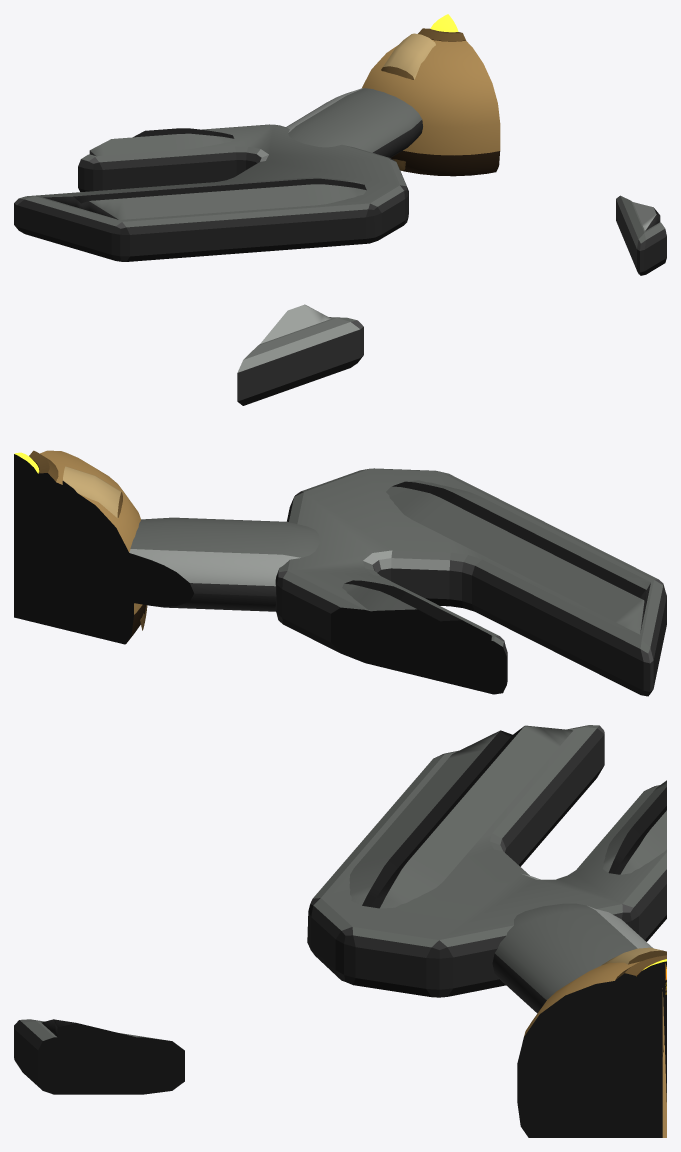
Rendered from spin_claw_43.glb.
3 renders of one model, top to bottom at view 1: azimuth 30°, elevation 25°; view 2: azimuth 150°, elevation 25°; view 3: azimuth 270°, elevation 25°, orthographic. The views are drawn at different scales.
Parts seen in each view (by area): view 1: spin_claw_43_arm3_plate, spin_claw_43_hub_dome, spin_claw_43_arm3_ridge0, spin_claw_43_arm3_rod, spin_claw_43_arm3_ridge1, spin_claw_43_arm2_plate, spin_claw_43_hub_rib3, spin_claw_43_arm2_ridge1, spin_claw_43_hub_bezel; view 2: spin_claw_43_arm3_plate, spin_claw_43_hub_dome, spin_claw_43_arm3_rod, spin_claw_43_arm3_ridge0, spin_claw_43_arm2_plate, spin_claw_43_arm3_ridge1, spin_claw_43_hub_rib3, spin_claw_43_arm2_ridge1, spin_claw_43_hub_bezel, spin_claw_43_hub_lens; view 3: spin_claw_43_arm3_plate, spin_claw_43_hub_dome, spin_claw_43_arm3_ridge0, spin_claw_43_arm3_rod, spin_claw_43_arm2_plate, spin_claw_43_arm3_ridge1, spin_claw_43_arm2_ridge1, spin_claw_43_hub_lens, spin_claw_43_hub_bezel.
Part boxes in pixels (x1=…): spin_claw_43_arm3_plate: x1=14, y1=124, x2=408, y2=261; spin_claw_43_hub_dome: x1=362, y1=40, x2=500, y2=176; spin_claw_43_arm3_ridge0: x1=43, y1=177, x2=366, y2=219; spin_claw_43_arm3_rod: x1=286, y1=88, x2=422, y2=157; spin_claw_43_arm3_ridge1: x1=89, y1=128, x2=234, y2=156; spin_claw_43_arm2_plate: x1=616, y1=195, x2=666, y2=275; spin_claw_43_hub_rib3: x1=381, y1=33, x2=435, y2=170; spin_claw_43_arm2_ridge1: x1=633, y1=202, x2=660, y2=230; spin_claw_43_hub_bezel: x1=418, y1=28, x2=465, y2=41; spin_claw_43_arm3_plate: x1=275, y1=468, x2=666, y2=696; spin_claw_43_hub_dome: x1=14, y1=450, x2=145, y2=644; spin_claw_43_arm3_rod: x1=91, y1=517, x2=319, y2=611; spin_claw_43_arm3_ridge0: x1=386, y1=480, x2=650, y2=634; spin_claw_43_arm2_plate: x1=237, y1=317, x2=363, y2=405; spin_claw_43_arm3_ridge1: x1=342, y1=580, x2=492, y2=647; spin_claw_43_hub_rib3: x1=62, y1=466, x2=147, y2=630; spin_claw_43_arm2_ridge1: x1=260, y1=304, x2=331, y2=343; spin_claw_43_hub_bezel: x1=14, y1=450, x2=58, y2=491; spin_claw_43_hub_lens: x1=14, y1=452, x2=39, y2=490; spin_claw_43_arm3_plate: x1=307, y1=725, x2=666, y2=997; spin_claw_43_hub_dome: x1=517, y1=961, x2=666, y2=1137; spin_claw_43_arm3_ridge0: x1=349, y1=725, x2=572, y2=908; spin_claw_43_arm3_rod: x1=492, y1=903, x2=652, y2=1013; spin_claw_43_arm2_plate: x1=14, y1=1019, x2=184, y2=1094; spin_claw_43_arm3_ridge1: x1=603, y1=780, x2=666, y2=874; spin_claw_43_arm2_ridge1: x1=41, y1=1019, x2=150, y2=1047; spin_claw_43_hub_lens: x1=634, y1=959, x2=666, y2=994; spin_claw_43_hub_bezel: x1=615, y1=955, x2=666, y2=991.
Size of the model in its own units: 23.84 by 6.14 by 20.58.
